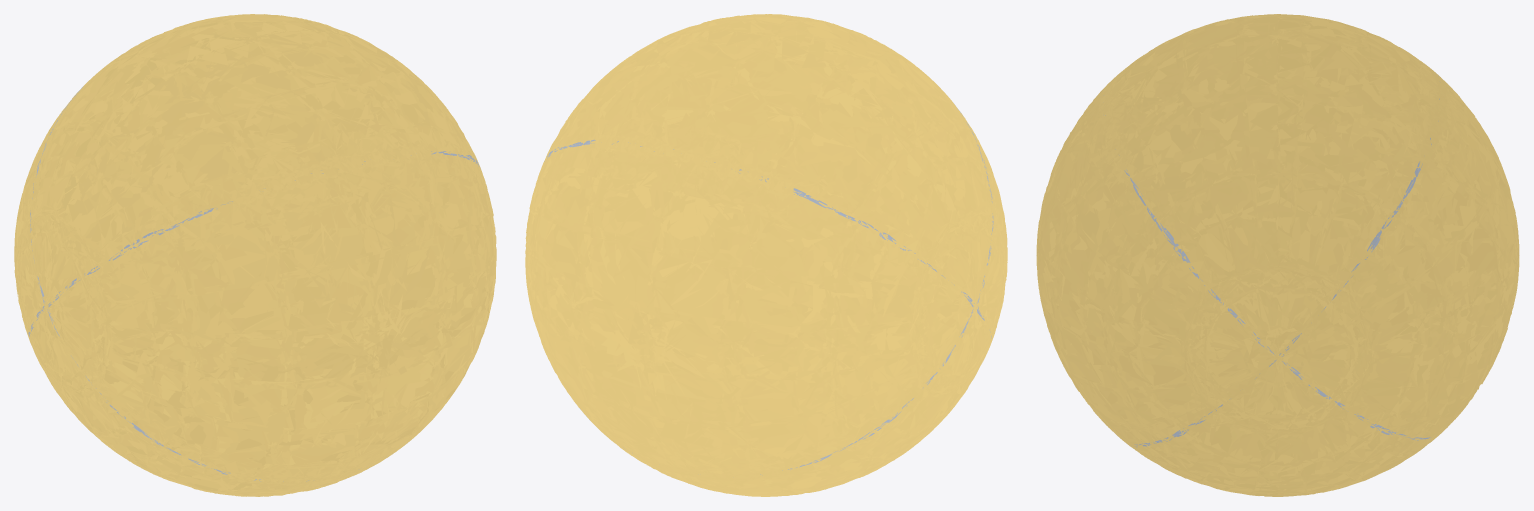
Rendered from dg-inner-A.glb.
3 renders of one model, left to right at view 1: azimuth 30°, elevation 25°; view 2: azimuth 150°, elevation 25°; view 3: azimuth 270°, elevation 25°, orthographic.
Visible parts, largest first — view 1: anodes, structure; view 2: anodes, structure; view 3: anodes, structure.
Part boxes in pixels (x1,y1,x2,y2): anodes: (14,14,496,496); structure: (28,86,478,481); anodes: (525,14,1007,496); structure: (544,108,993,475); anodes: (1036,14,1519,496); structure: (1105,76,1439,447).
Size of the model in its own units: 2 by 2 by 2.
